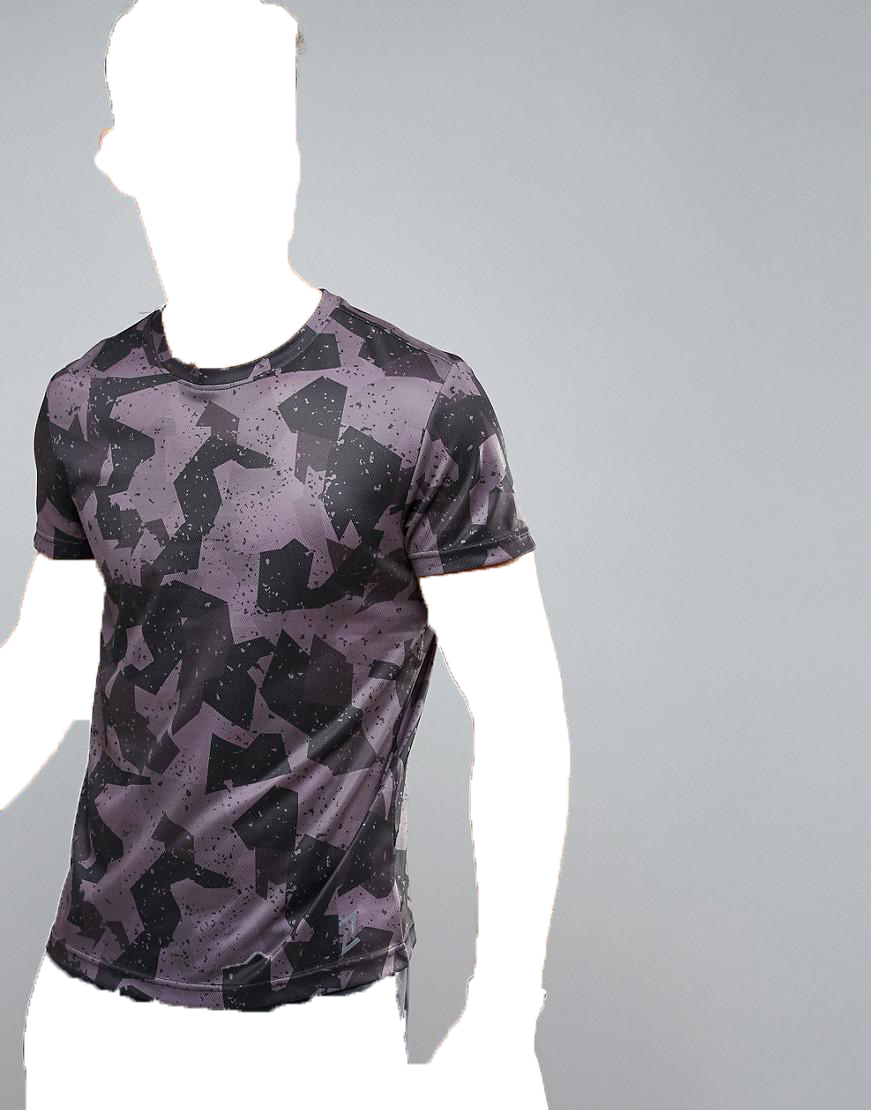teeshirt: (27, 291, 532, 1005)
